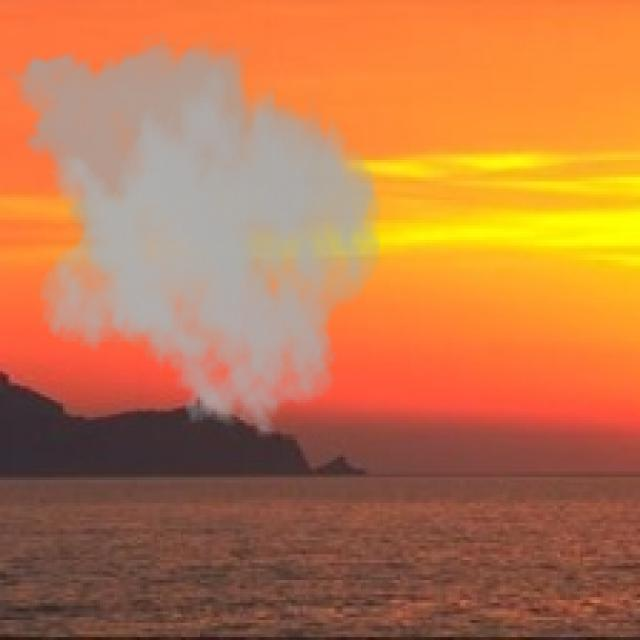smoke: (0, 29, 383, 440)
